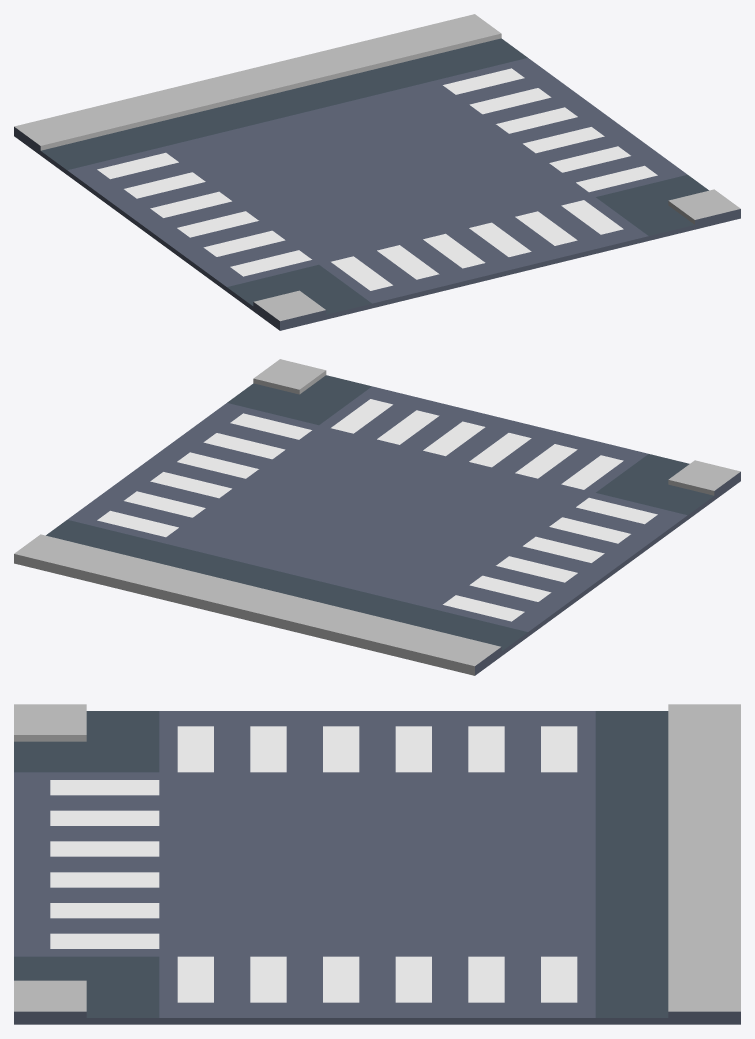
Rendered from SM_Road_Intersection_Path.fbx.
3 views of the same model, one above another, from view 1: azimuth 30°, elevation 25°; view 2: azimuth 150°, elevation 25°; view 3: azimuth 270°, elevation 25° (orthographic). The views are drawn at different scales.
Visible parts, largest first — view 1: SM_Road_Intersection_Path; view 2: SM_Road_Intersection_Path; view 3: SM_Road_Intersection_Path.
Part boxes in pixels (box(x1,y1,x2,y2)): SM_Road_Intersection_Path: box(14, 14, 740, 330); SM_Road_Intersection_Path: box(14, 359, 740, 675); SM_Road_Intersection_Path: box(14, 704, 740, 1024).
Size of the model in its own units: 1000 by 20 by 1000.
